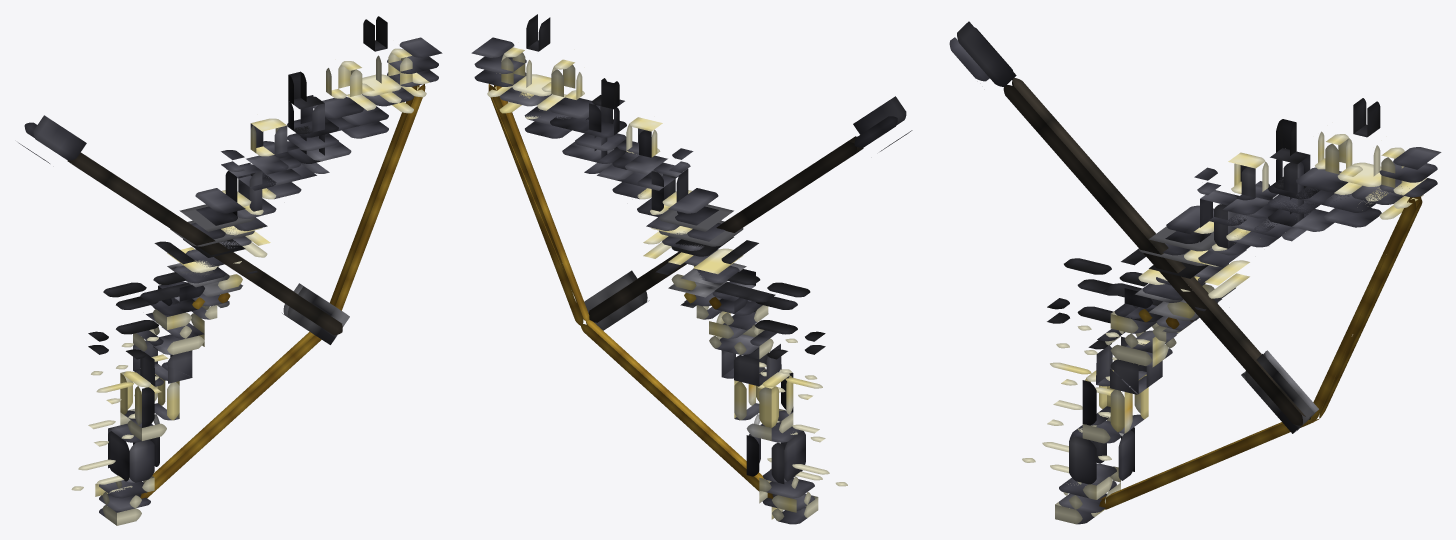
Rendered from wingbow_pulling_1.obj.
The picture shows the model from 3 angles, left to right: view 1: azimuth 30°, elevation 25°; view 2: azimuth 150°, elevation 25°; view 3: azimuth 330°, elevation 25°; orthographic projection. The views are drawn at different scales.
Parts seen in each view (by area): view 1: lit, fire; view 2: lit, fire; view 3: lit, fire.
Boxes of the visible parts, x1,y1,x2,y2 form: lit: [18, 16, 442, 525]; fire: [282, 283, 349, 344]; lit: [471, 14, 912, 524]; fire: [584, 270, 649, 330]; lit: [949, 21, 1441, 524]; fire: [1241, 350, 1318, 433].
Bounding box in the file's own units: 1.06 × 1.04 × 0.125.
